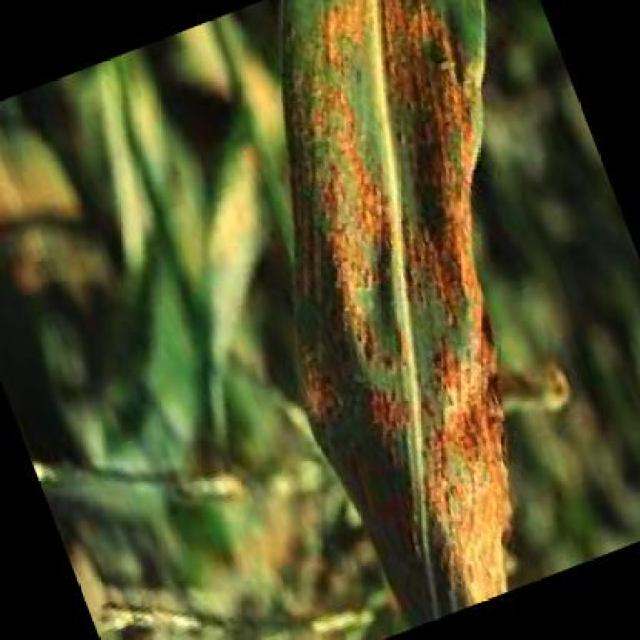Corn_Rust: (266, 9, 522, 586)
